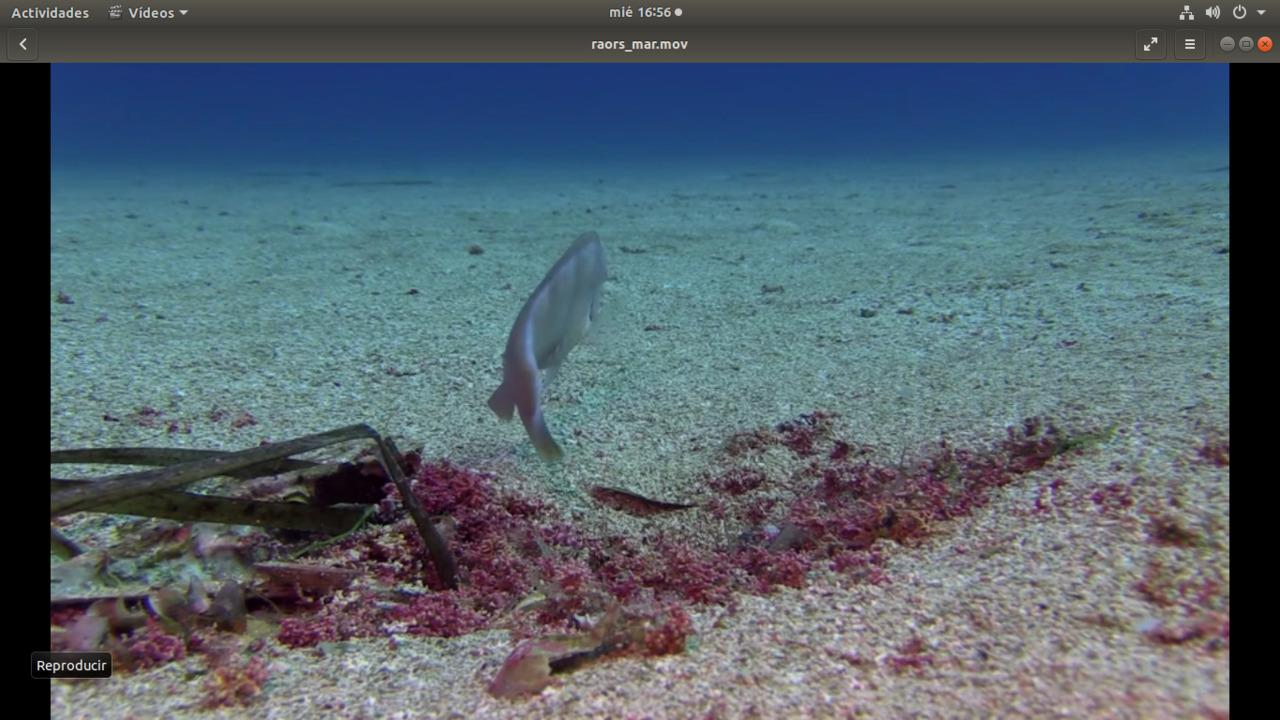raor: (478, 224, 613, 474)
